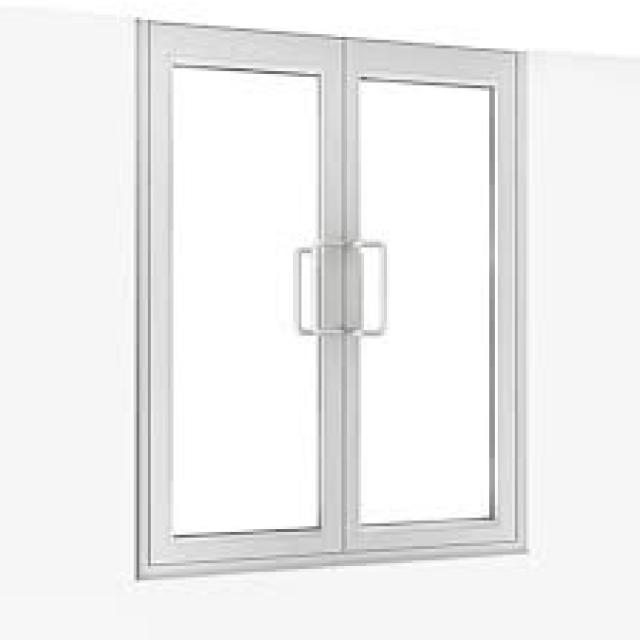door: (137, 21, 526, 582)
